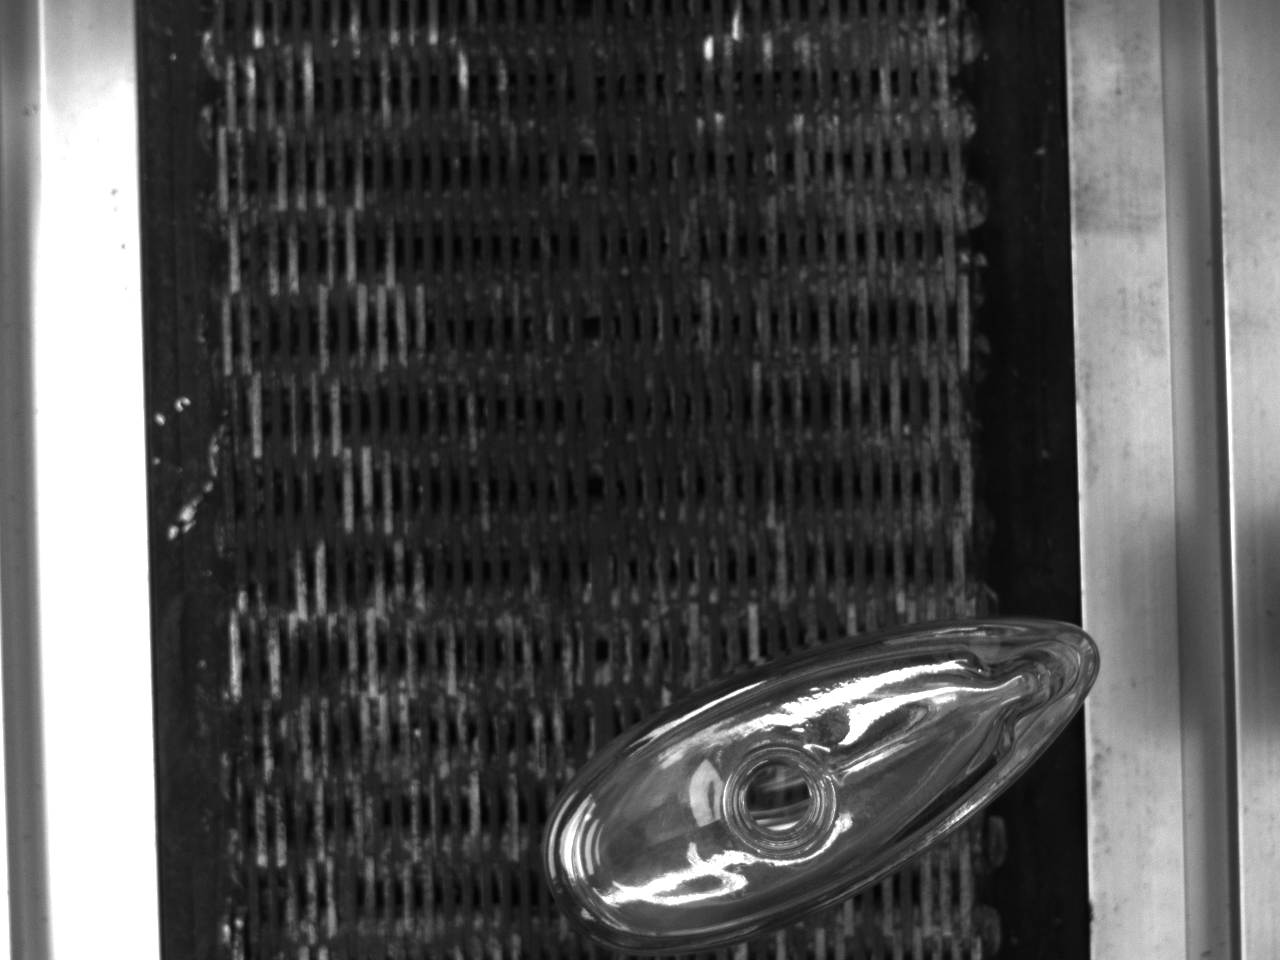bottleneck: (723, 746, 837, 861)
